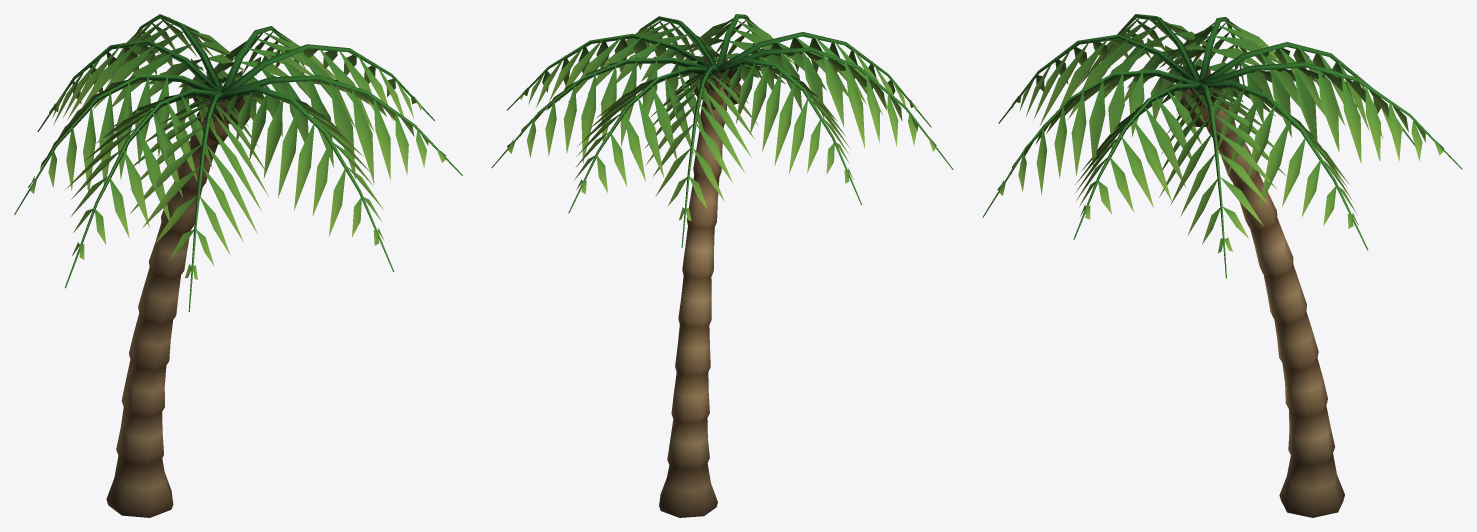
File: tree-palm-low.glb
3 renders of one model, left to right at view 1: azimuth 30°, elevation 25°; view 2: azimuth 150°, elevation 25°; view 3: azimuth 270°, elevation 25°, orthographic. The views are drawn at different scales.
Parts seen in each view (by area): view 1: 1_leaves, 0_trunk; view 2: 1_leaves, 0_trunk; view 3: 1_leaves, 0_trunk.
Boxes of the visible parts, box(x1,y1,x2,y2) form: 1_leaves: box(14, 14, 462, 311); 0_trunk: box(106, 99, 230, 517); 1_leaves: box(491, 14, 953, 247); 0_trunk: box(659, 72, 727, 517); 1_leaves: box(982, 14, 1462, 278); 0_trunk: box(1193, 89, 1344, 517).
Bounding box in the file's own units: 5.55 × 5.78 × 5.45.
